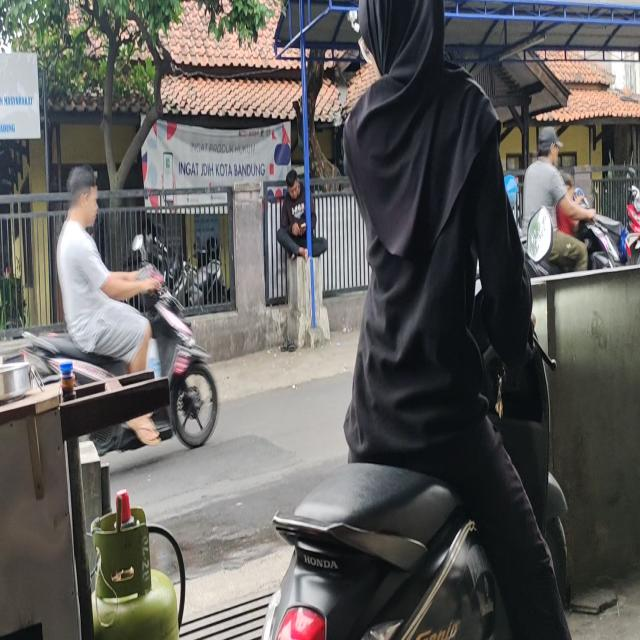no-helmet: (352, 0, 452, 81), (66, 169, 100, 226)
